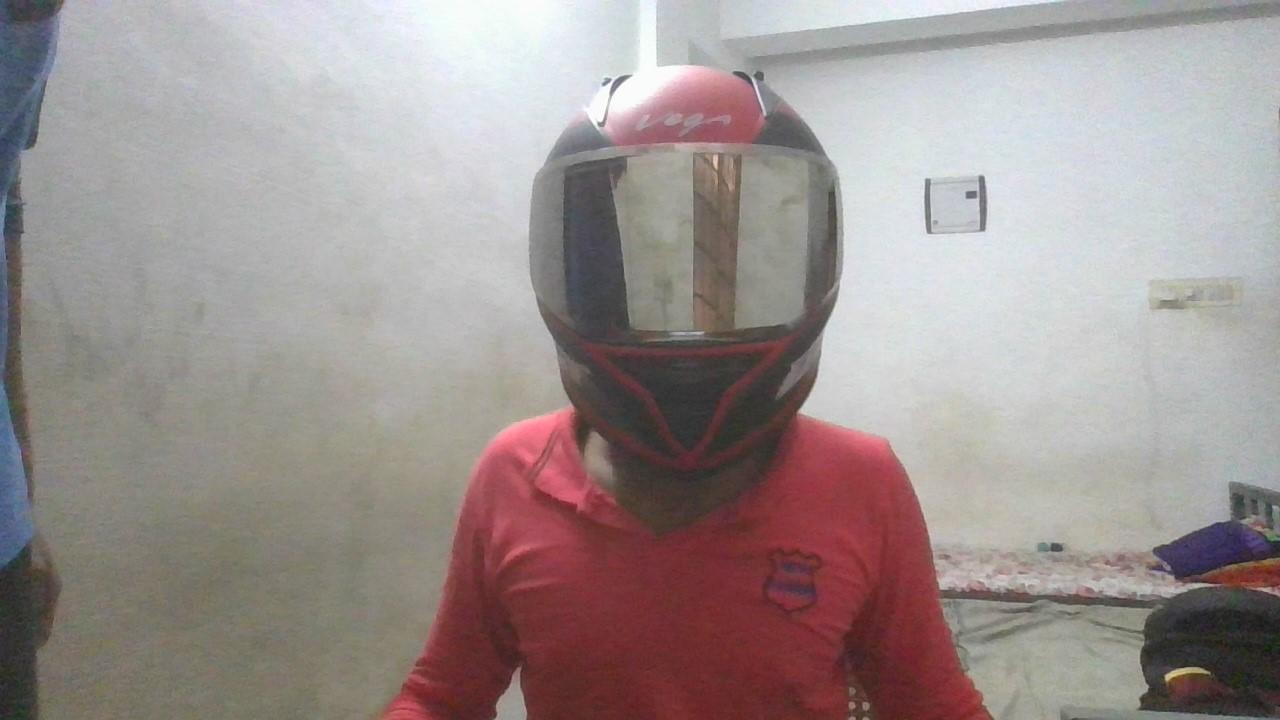helmet: (526, 64, 845, 476)
